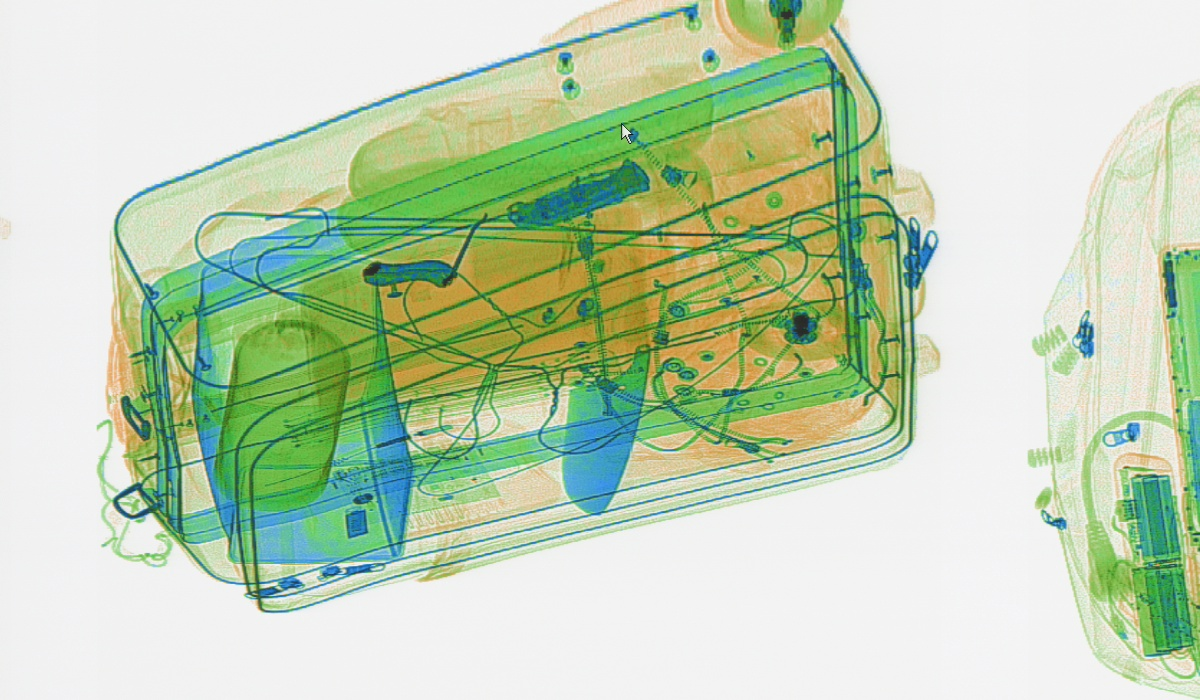knife: (558, 229, 676, 516), (502, 156, 650, 231)
powerbank: (1112, 451, 1194, 657)
